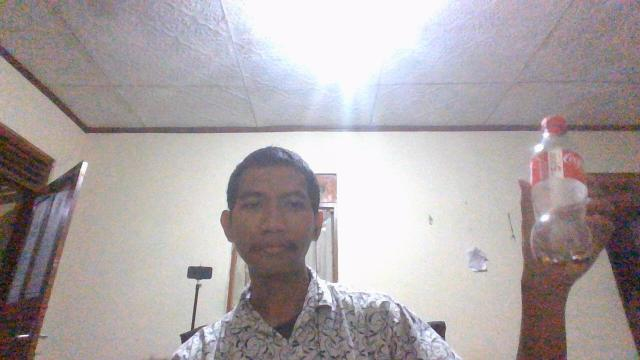coca-cola: (521, 114, 606, 269)
